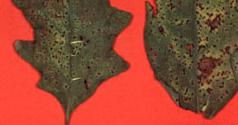Tomato Septoria leaf spot: (10, 0, 134, 125), (143, 0, 238, 122)
